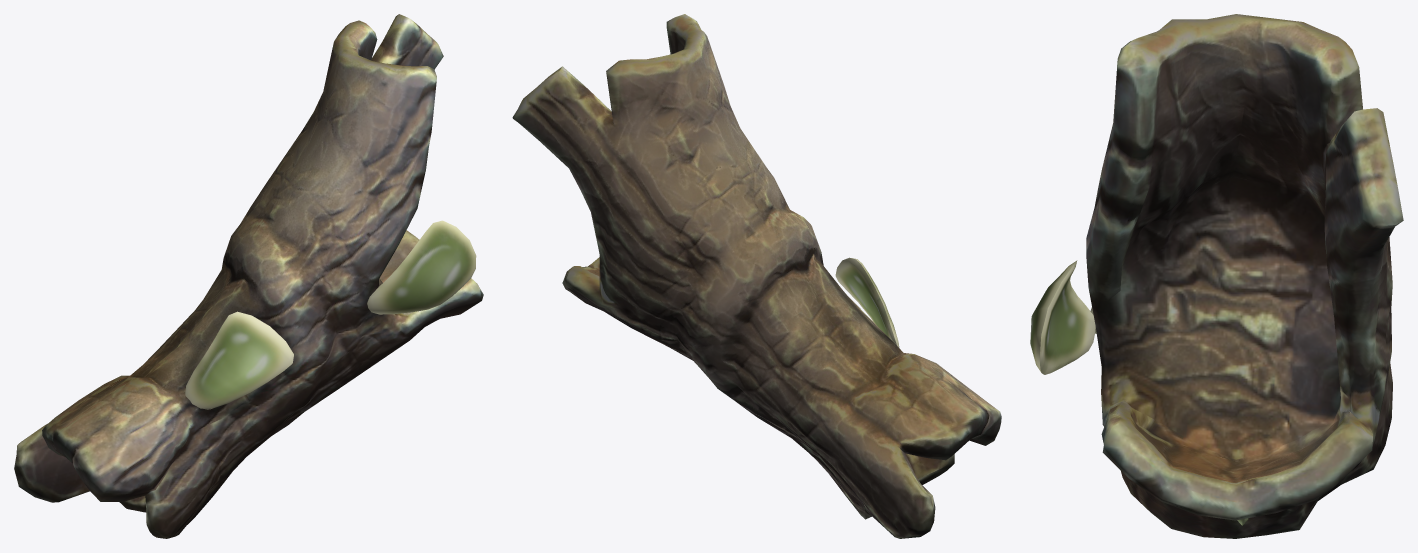
File: ore_item_green_dream.glb
3 views of the same model, side by side, from view 1: azimuth 30°, elevation 25°; view 2: azimuth 150°, elevation 25°; view 3: azimuth 270°, elevation 25° (orthographic). The views are drawn at different scales.
Parts seen in each view (by area): view 1: ore_item_green; view 2: ore_item_green; view 3: ore_item_green.
Boxes of the visible parts, x1,y1,x2,y2 form: ore_item_green: [14, 14, 483, 538]; ore_item_green: [512, 14, 1001, 538]; ore_item_green: [1030, 14, 1403, 538].
Size of the model in its own units: 0.2891 by 0.2711 by 0.1365.
1 material, 1 textured.
